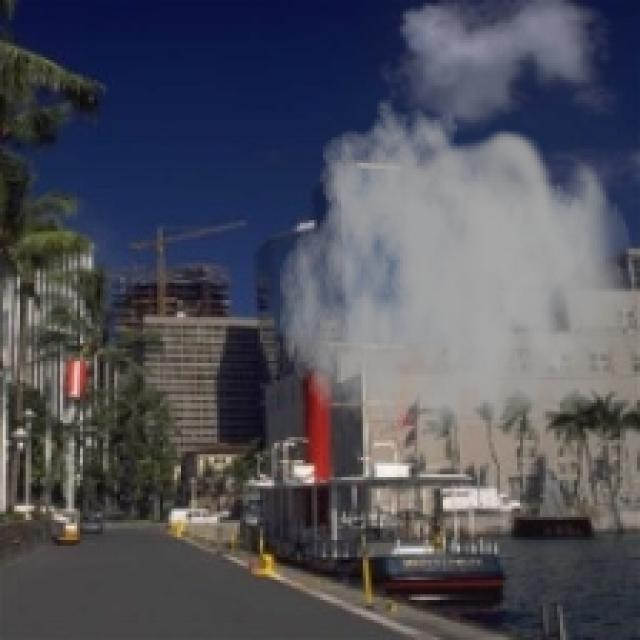Smoke: (277, 97, 634, 480)
